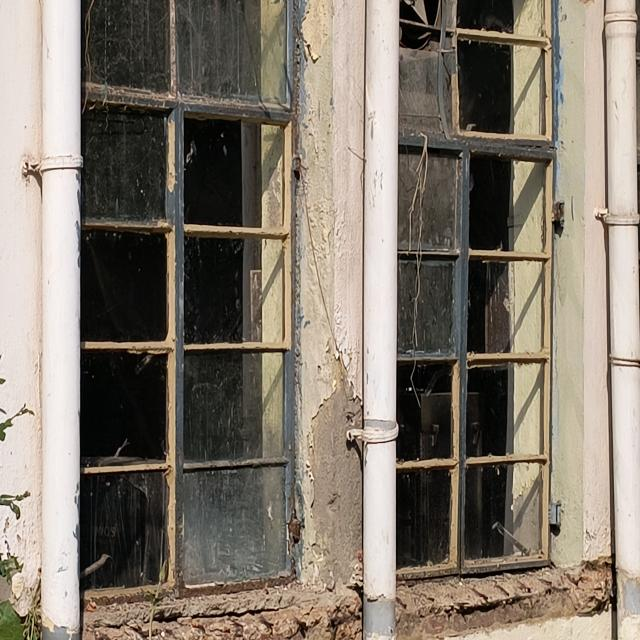peeling: (298, 342, 368, 579)
spalling: (88, 562, 616, 638)
